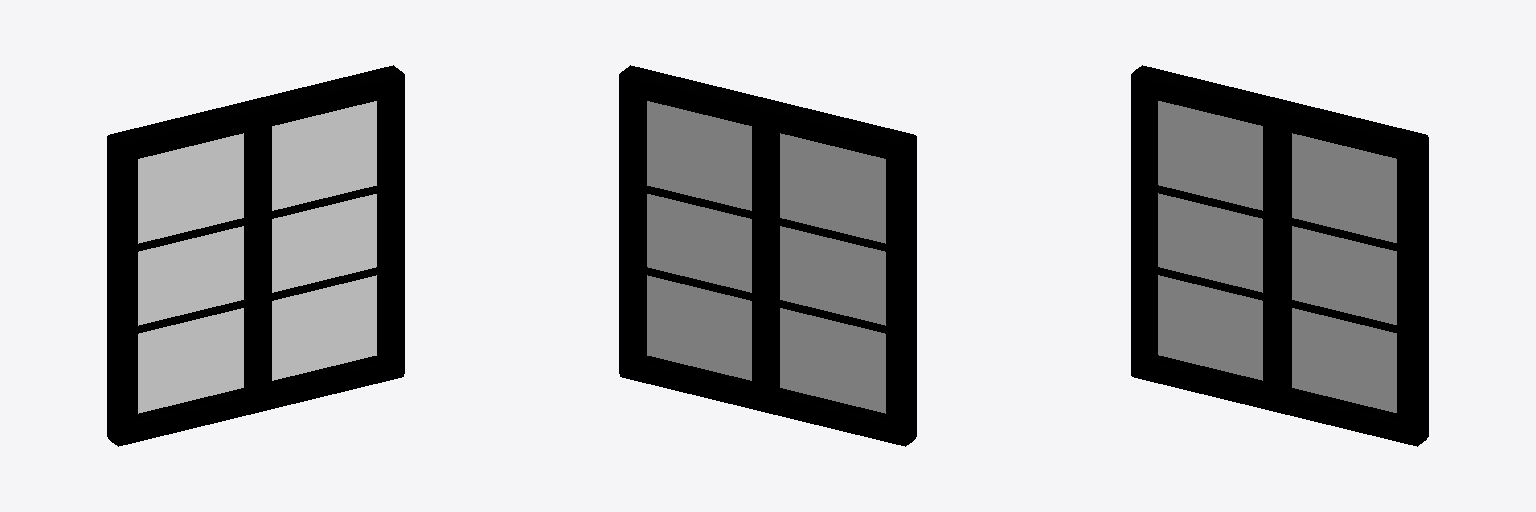
The model's file is ventana.obj.
3 renders of one model, left to right at view 1: azimuth 30°, elevation 25°; view 2: azimuth 150°, elevation 25°; view 3: azimuth 330°, elevation 25°, orthographic.
Parts seen in each view (by area): view 1: Cube.009_Cube.013, Cube_Cube.005; view 2: Cube.009_Cube.013, Cube_Cube.005; view 3: Cube.009_Cube.013, Cube_Cube.005.
Boxes of the visible parts, x1,y1,x2,y2 form: Cube.009_Cube.013: [138, 101, 376, 413]; Cube_Cube.005: [107, 65, 404, 446]; Cube.009_Cube.013: [647, 101, 885, 413]; Cube_Cube.005: [619, 65, 916, 446]; Cube.009_Cube.013: [1158, 101, 1396, 412]; Cube_Cube.005: [1131, 65, 1428, 446].
Bounding box in the file's own units: 6.21 × 6.26 × 0.4694.